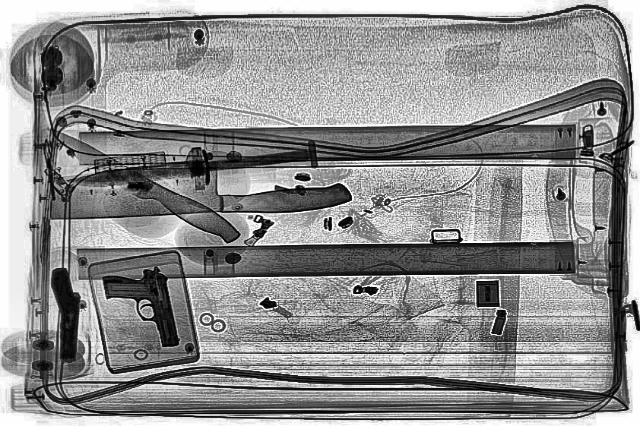Gun: (98, 266, 182, 348), (48, 267, 88, 361)
Knife: (32, 124, 250, 245), (41, 154, 353, 226), (65, 147, 313, 189)
